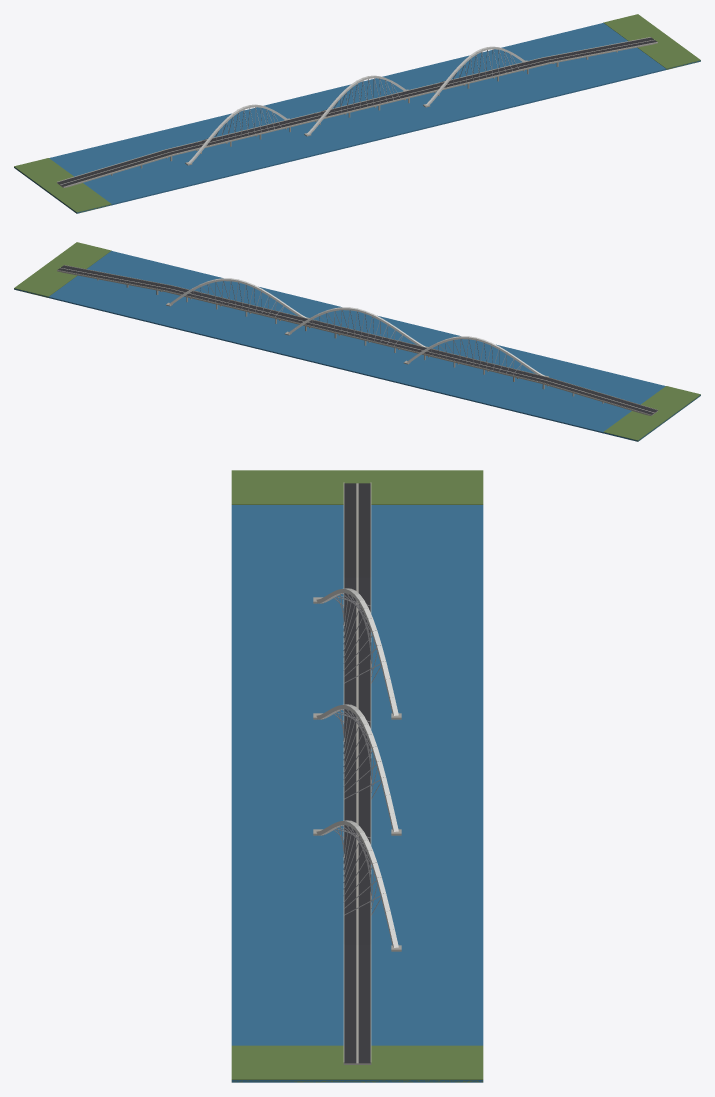
Rendered from ponte_jk.glb.
3 views of the same model, one above another, from view 1: azimuth 30°, elevation 25°; view 2: azimuth 150°, elevation 25°; view 3: azimuth 270°, elevation 25° (orthographic). The views are drawn at different scales.
Visible parts, largest first — view 1: ponte_jk; view 2: ponte_jk; view 3: ponte_jk.
Boxes of the visible parts, x1,y1,x2,y2 form: ponte_jk: (14,14,700,213); ponte_jk: (14,242,700,441); ponte_jk: (231,470,483,1082).
Size of the model in its own units: 1260 by 65.77 by 220.
